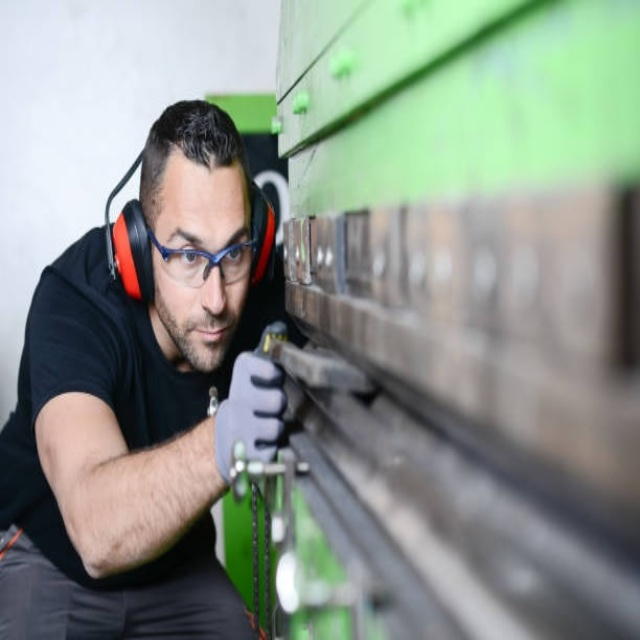Gafas: (147, 222, 258, 288)
Guantes: (214, 350, 287, 485)
Sin_mascara: (195, 317, 232, 367)
